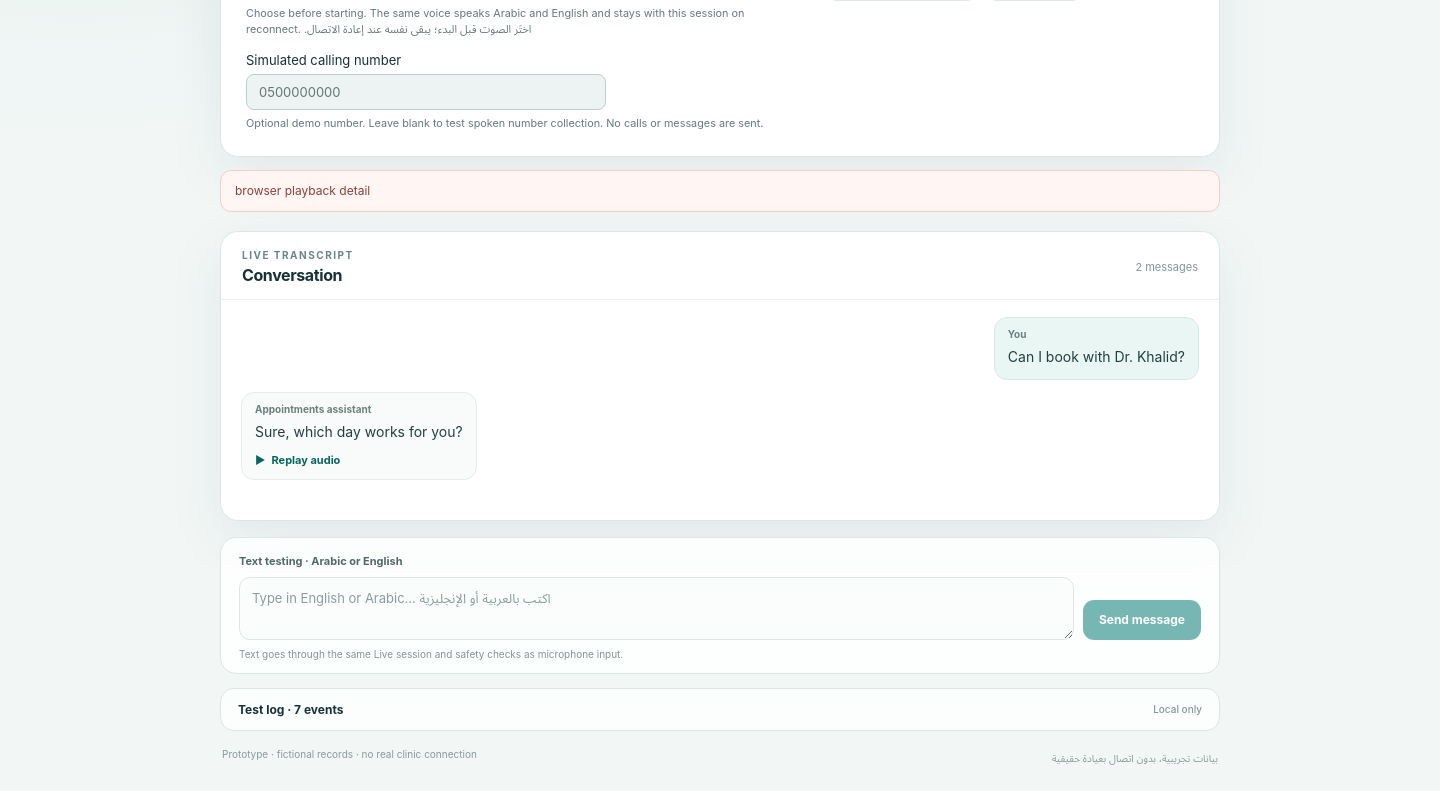
Scenario: web voice-agent interface › records transcript, session, tool, audio-check, and playback events with copy and clear controls
(page scrolled)
Click the text "Test log · 7 events" at (291, 709), box [238,702,344,717]
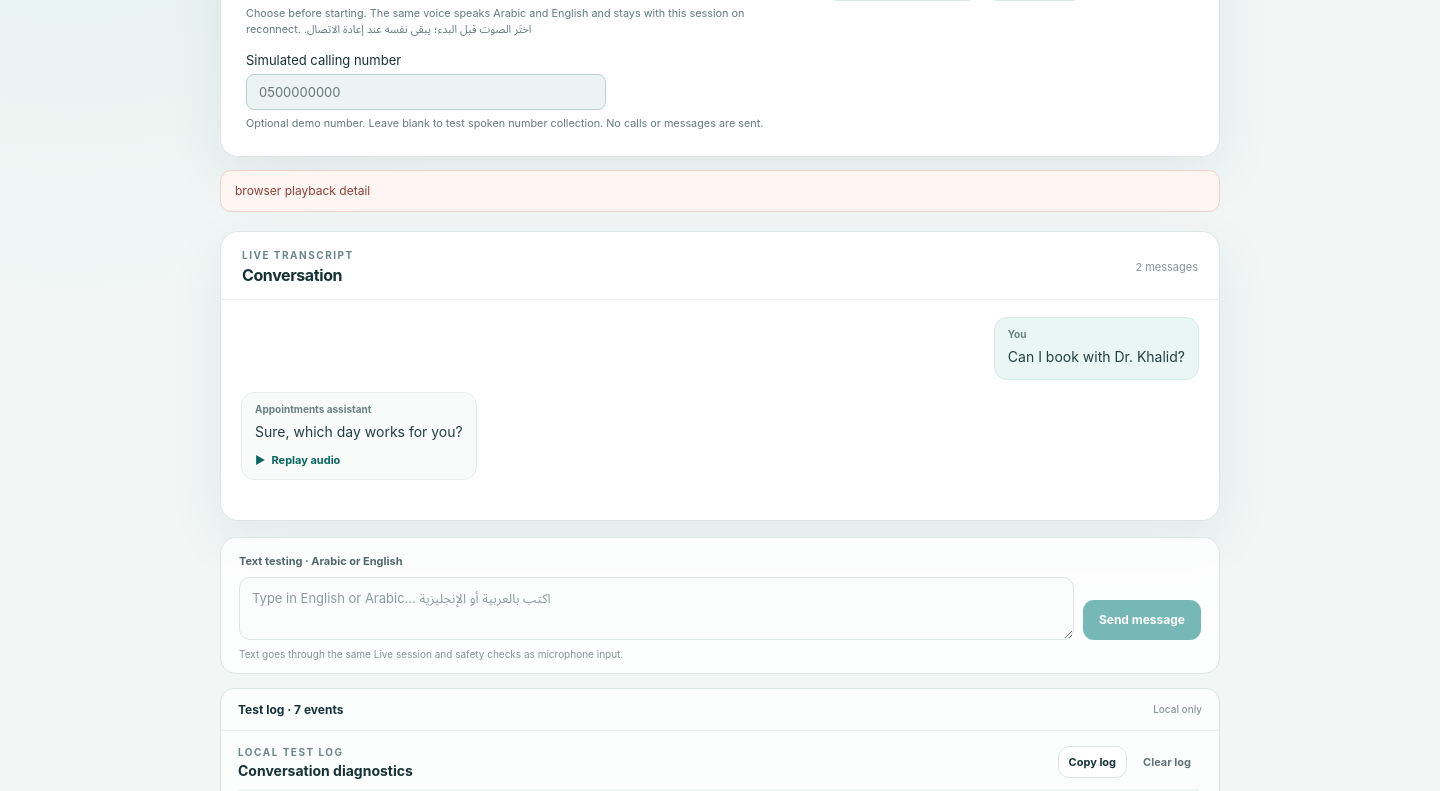
Click the button "Copy log" at (1092, 762), box [1058,746,1127,778]
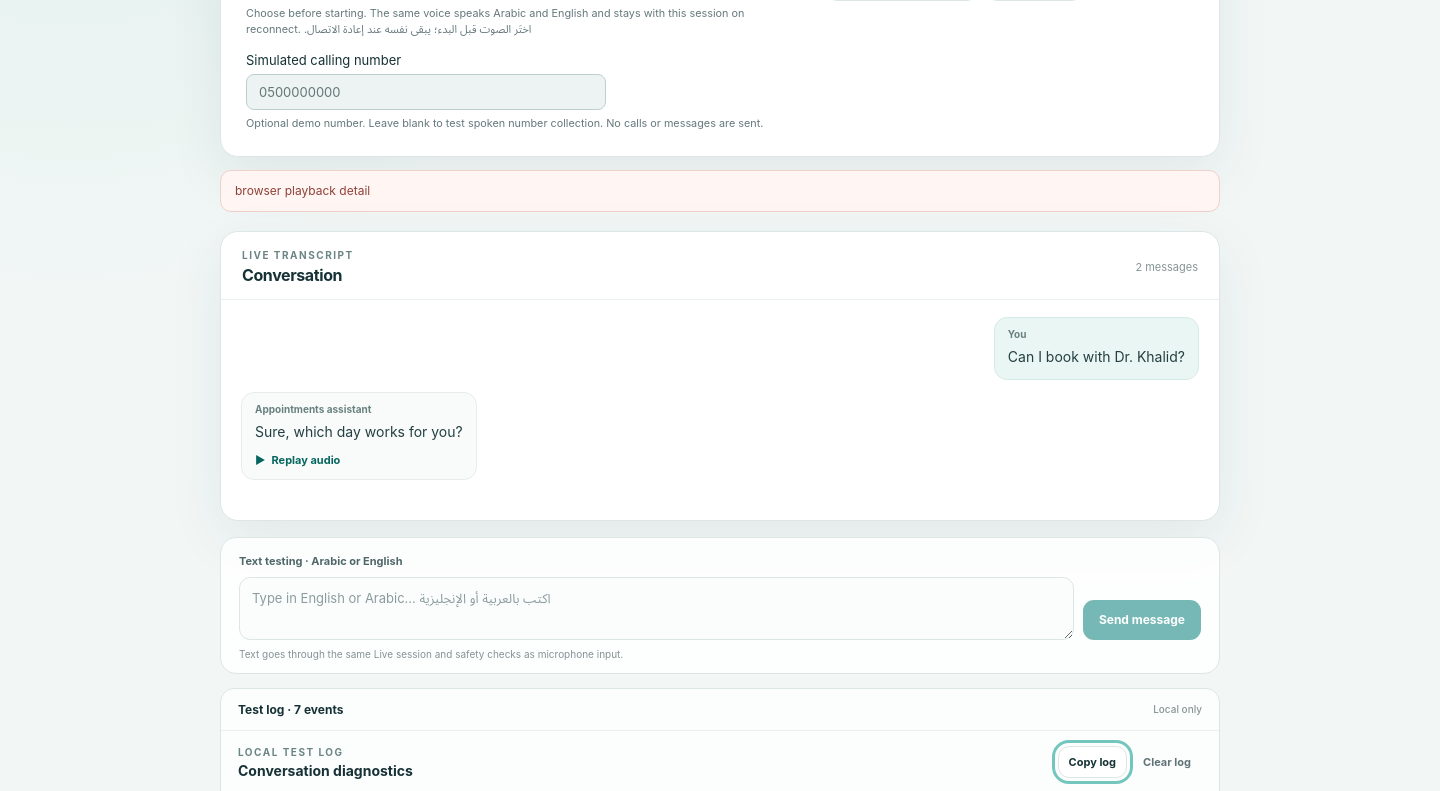
Click the button "Clear log" at (1167, 762), box [1132,746,1202,778]
(page scrolled)
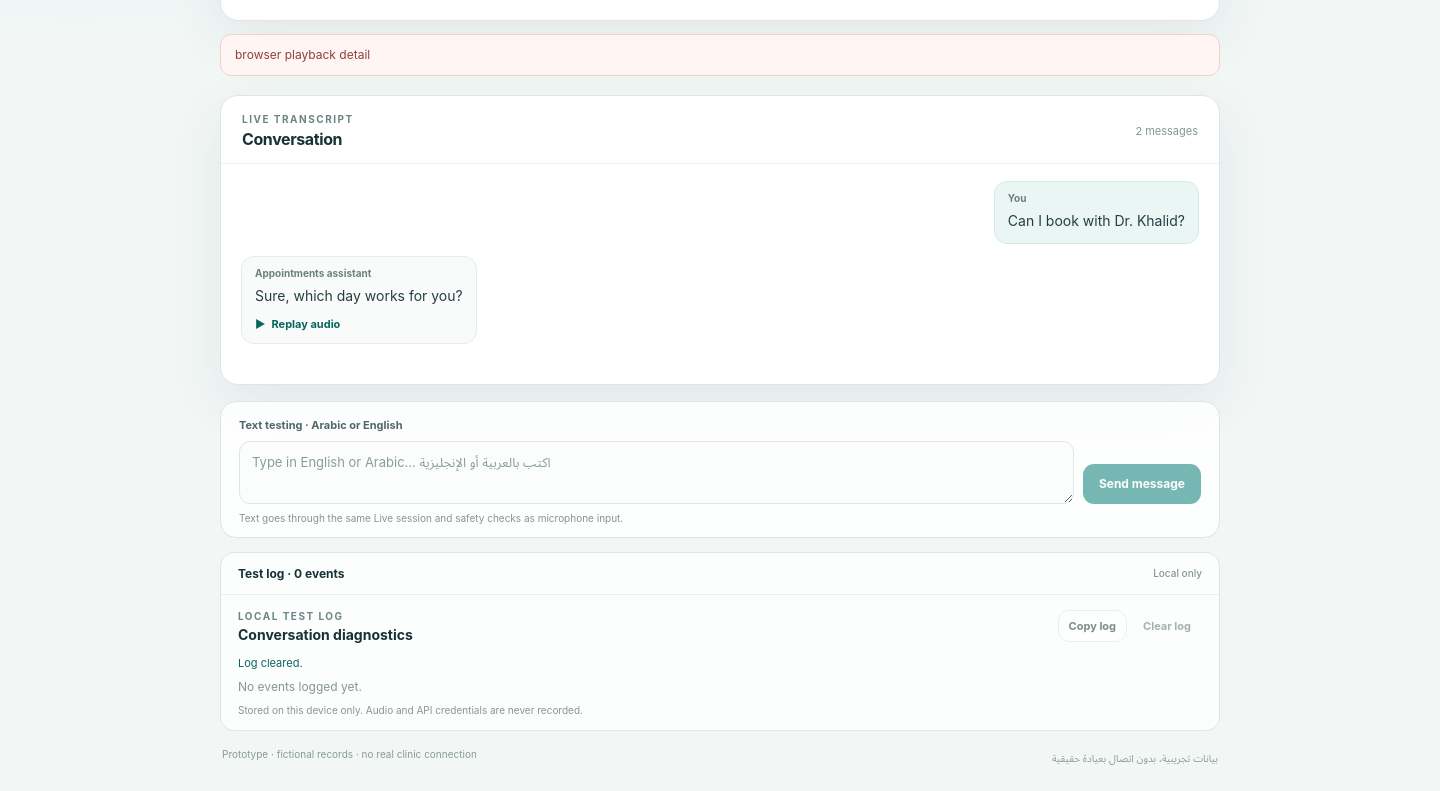
Expected: the text "No events logged yet." is shown, [238,679,362,694]
